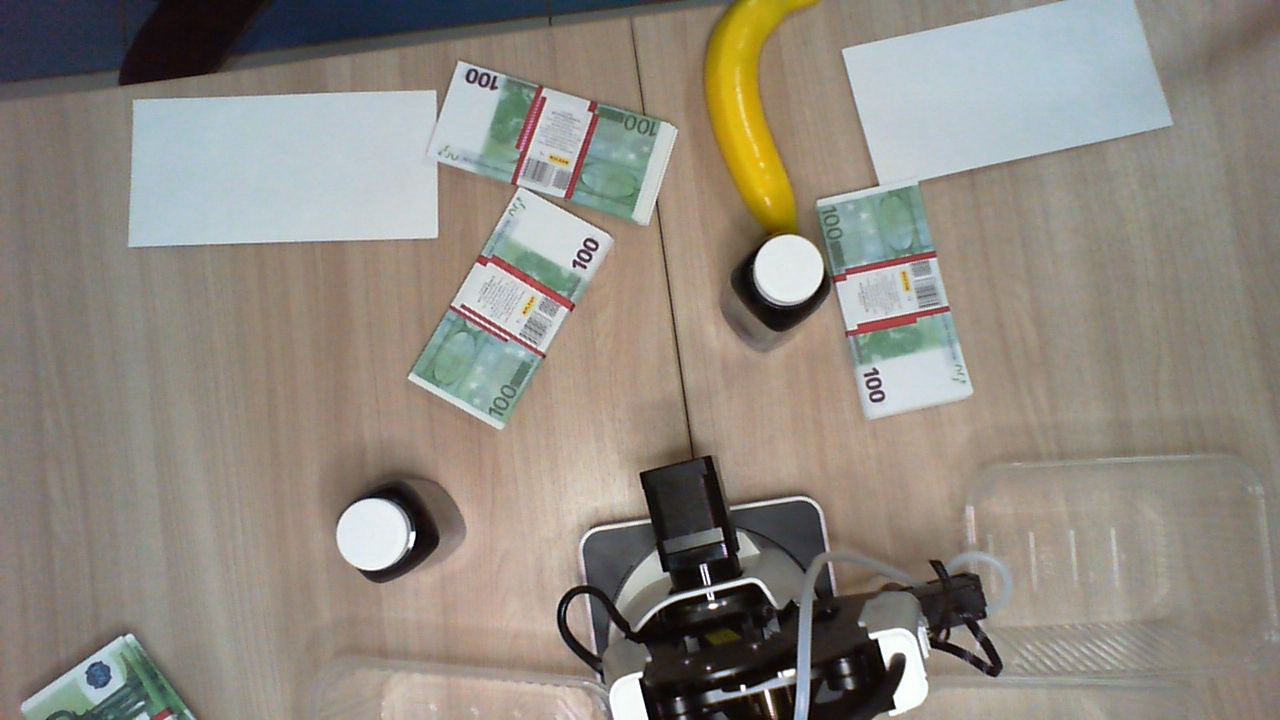banana: (702, 1, 818, 242)
bottle: (329, 483, 433, 580), (733, 230, 828, 330)
convert: (840, 1, 1170, 190), (127, 88, 438, 250)
money: (406, 190, 614, 429), (813, 179, 981, 418), (425, 60, 679, 214)
